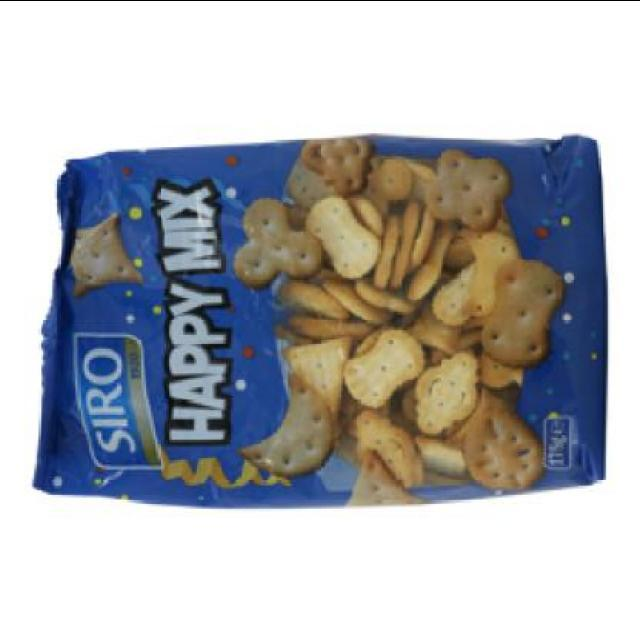Salatini: (23, 126, 606, 514)
